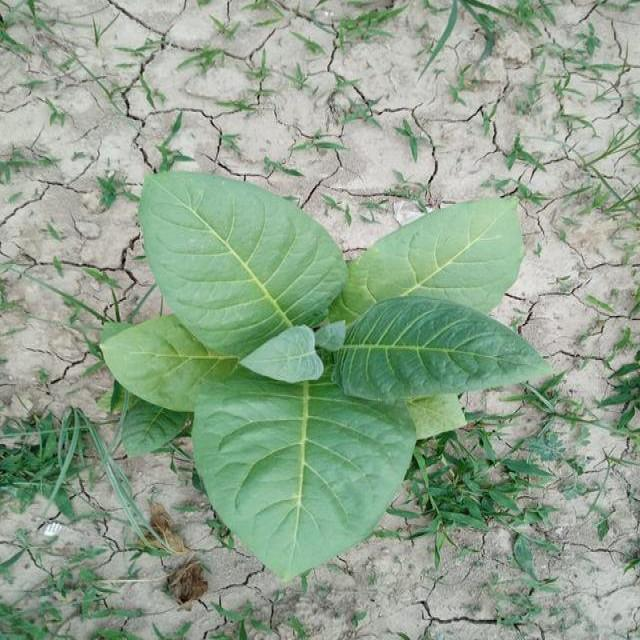crop: (95, 171, 538, 575)
